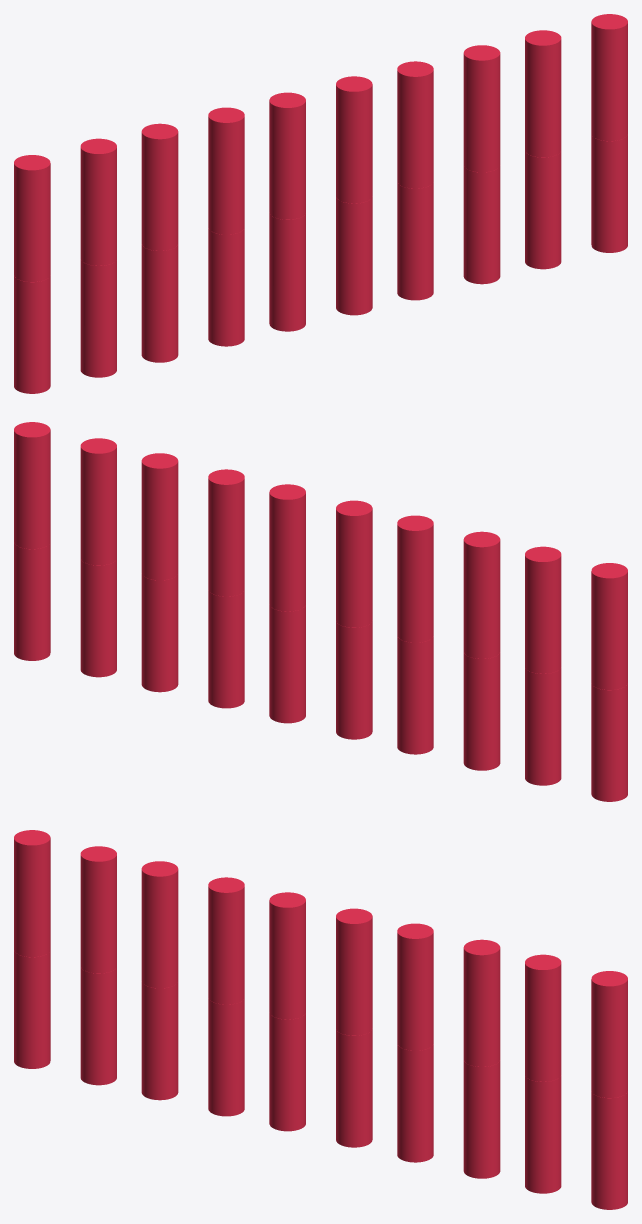
Rendered from Sticks.fbx.
3 views of the same model, one above another, from view 1: azimuth 30°, elevation 25°; view 2: azimuth 150°, elevation 25°; view 3: azimuth 330°, elevation 25° (orthographic).
Visible parts, largest first — view 1: Cylinder.008; view 2: Cylinder.008; view 3: Cylinder.008.
Boxes of the visible parts, bbox=[...] form: Cylinder.008: bbox=[14, 14, 627, 393]; Cylinder.008: bbox=[14, 422, 627, 801]; Cylinder.008: bbox=[14, 830, 627, 1209].
Bounding box in the file's own units: 228 × 79.94 × 11.86.
1 material, 1 textured.
